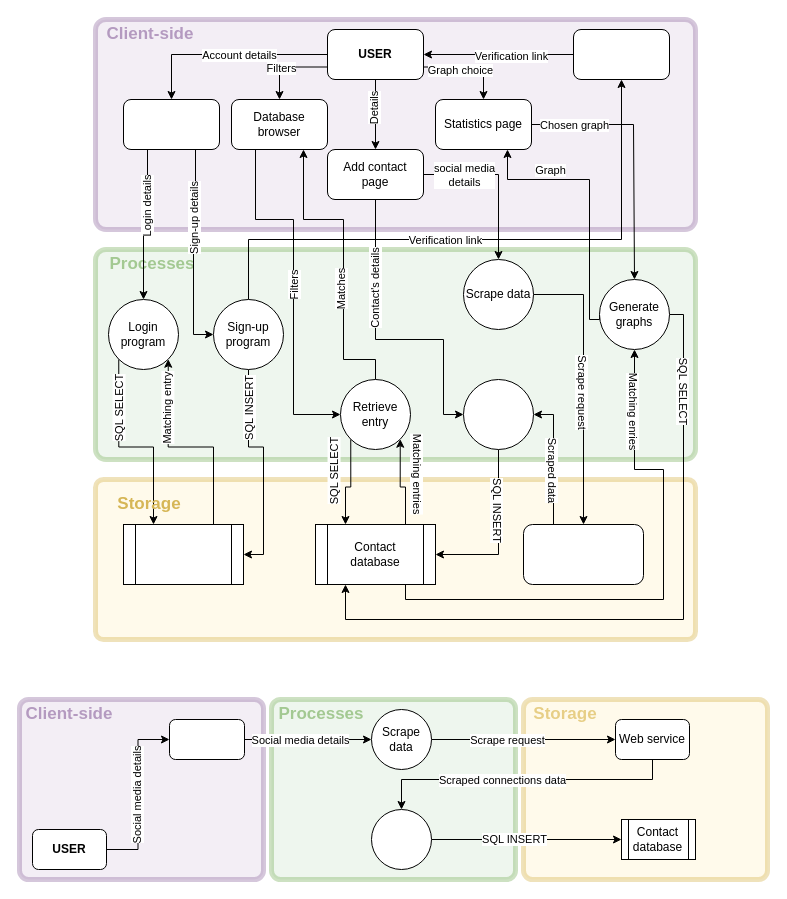
The diagram is 787 pixels wide and 899 high, and some of its shapes have lost their labels. Each missing label, with the centre of its shape:
"Create entries" goes at pixel 401 839.
"Create entry" goes at pixel 498 414.
"Email address" goes at pixel 621 54.
"Link account page" goes at pixel 206 739.
"User database" goes at pixel 183 554.
"Verification page" goes at pixel 171 124.
"Web service (e.g. RocketReach)" goes at pixel 583 554.
